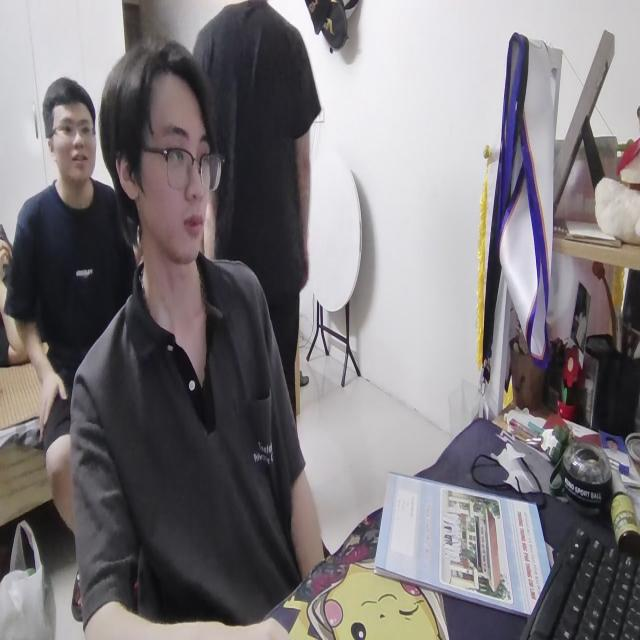book: (372, 460, 556, 614)
extra_person: (191, 0, 331, 395), (10, 69, 134, 507)
student: (66, 28, 336, 640)
